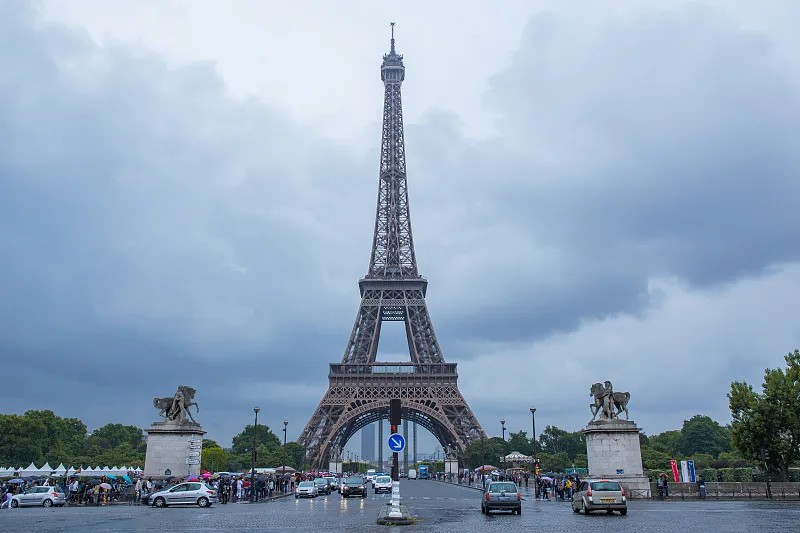Eiffel: (294, 21, 487, 471)
